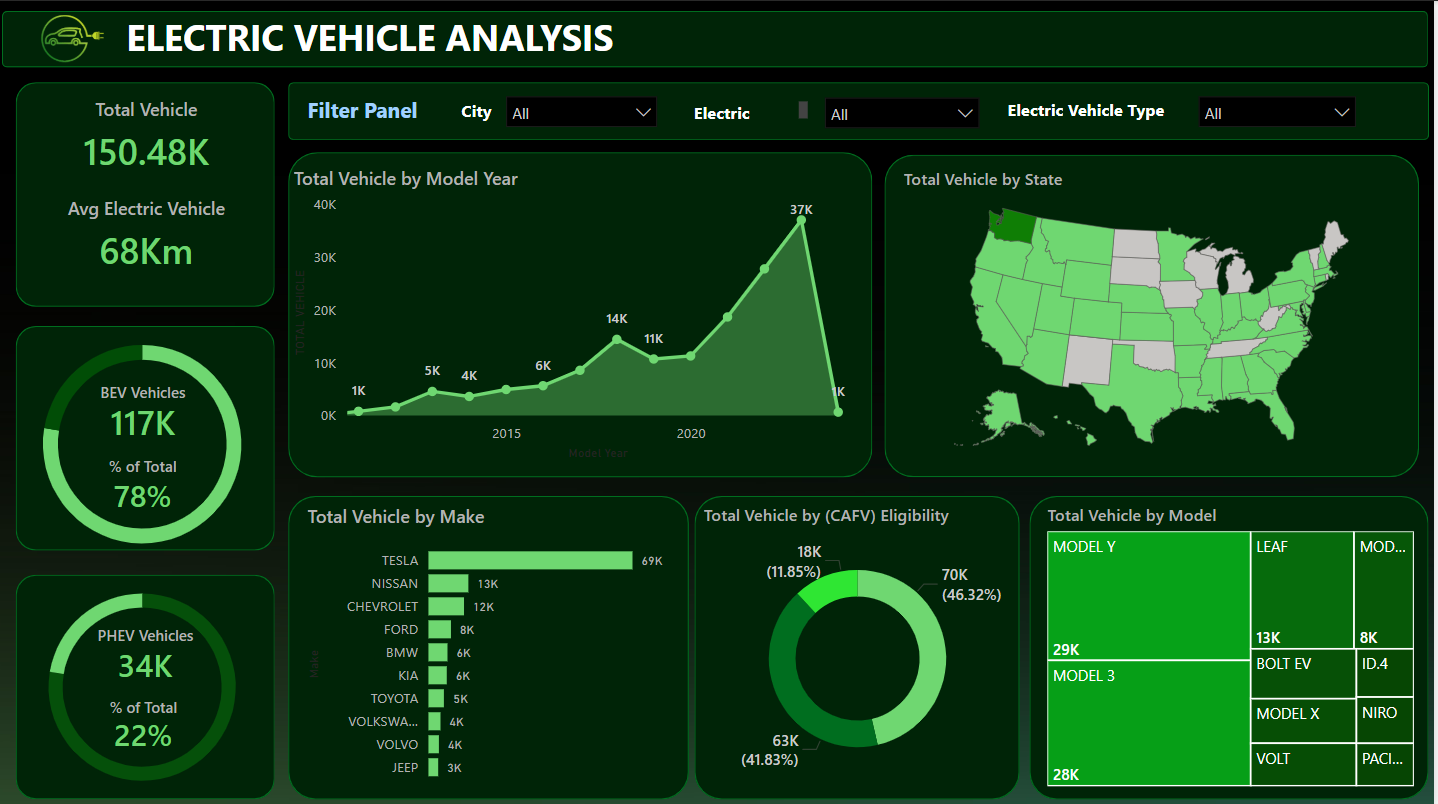

Layout of this report page (visuals, bound fields, positions):
{"tool":"powerbi","page":{"name":"Page 1","canvas":[1280,720],"ordinal":0},"visuals":[{"type":"shape","box":[4.9,8.6,1269.9,50.3],"z":0},{"type":"textbox","box":[109.8,5.5,456.9,53.5],"z":1000},{"type":"shape","box":[17.2,72.4,230.7,200],"z":2000},{"type":"shape","box":[17.2,289.6,230.7,200],"z":3000},{"type":"shape","box":[17.2,510.4,230.7,200],"z":4000},{"type":"card","title":"Total Vehicle","fields":{"Values":["Electric_Vehicle_Population_Data.TOTAL VEHICLE"]},"box":[42.9,84.7,179.1,77.3],"z":5000},{"type":"card","title":"Avg Electric Vehicle","fields":{"Values":["Electric_Vehicle_Population_Data.AVG ELECTRIC RANGE"]},"box":[42.9,173,179.1,77.3],"z":6000},{"type":"donutChart","fields":{"Y":["Electric_Vehicle_Population_Data.TOTAL VEHICLE"],"Category":["Electric_Vehicle_Population_Data.Electric Vehicle Type"]},"box":[0,279.8,259,231],"z":7000},{"type":"card","title":"BEV Vehicles","fields":{"Values":["Electric_Vehicle_Population_Data.BEV VEHICLE"]},"box":[73.6,339.9,112.9,55.2],"z":8000},{"type":"card","title":"% of Total","fields":{"Values":["Electric_Vehicle_Population_Data.% OF BEV VEHICLE"]},"box":[73.6,404.9,112.9,55.2],"z":9000},{"type":"donutChart","fields":{"Y":["Electric_Vehicle_Population_Data.TOTAL VEHICLE"],"Category":["Electric_Vehicle_Population_Data.Electric Vehicle Type"]},"box":[0,501.8,258.9,218.4],"z":10000},{"type":"card","title":"PHEV Vehicles","fields":{"Values":["Electric_Vehicle_Population_Data.PHEV VEHICLE"]},"box":[76.1,555.8,112.9,55.2],"z":11000},{"type":"card","title":"% of Total","fields":{"Values":["Electric_Vehicle_Population_Data.% OF PHEV VEHICLE"]},"box":[92,619.6,76.1,51.5],"z":12000},{"type":"shape","box":[258.9,72.4,1016,51.5],"z":13000},{"type":"shape","box":[258.9,135,520.2,289.6],"z":14000},{"type":"areaChart","title":"Total Vehicle by Model Year","fields":{"Category":["Electric_Vehicle_Population_Data.Model Year"],"Y":["Electric_Vehicle_Population_Data.TOTAL VEHICLE"]},"box":[258.9,146,508,267.5],"z":15000},{"type":"shape","box":[790.2,137.4,476.1,287.1],"z":16000},{"type":"shape","box":[259.3,440.5,356.8,270.3],"z":17000},{"type":"barChart","title":"Total Vehicle by Make","fields":{"Y":["Electric_Vehicle_Population_Data.TOTAL VEHICLE"],"Category":["Electric_Vehicle_Population_Data.Make"]},"box":[271.7,447.3,326.6,256.6],"z":18000},{"type":"shape","box":[621.6,440.5,289.5,270.3],"z":19000},{"type":"donutChart","title":"Total Vehicle by (CAFV) Eligibility","fields":{"Y":["Electric_Vehicle_Population_Data.TOTAL VEHICLE"],"Category":["Electric_Vehicle_Population_Data.Clean Alternative Fuel Vehicle (CAFV) Eligibility"]},"box":[624.4,447.3,284,256.6],"z":20000},{"type":"shape","box":[919.4,440.5,355.4,270.3],"z":21000},{"type":"treemap","title":"Total Vehicle by Model","fields":{"Values":["Electric_Vehicle_Population_Data.TOTAL VEHICLE"],"Group":["Electric_Vehicle_Population_Data.Model"]},"box":[930.4,447.3,336.2,256.6],"z":22000},{"type":"shapeMap","title":"Total Vehicle by State","fields":{"Category":["Electric_Vehicle_Population_Data.State"],"Value":["Electric_Vehicle_Population_Data.TOTAL VEHICLE"]},"box":[802.7,148.2,451.5,264.8],"z":23000},{"type":"textbox","box":[271.7,79.6,133.1,38.4],"z":24000},{"type":"slicer","fields":{"Values":["Electric_Vehicle_Population_Data.City"]},"box":[443.2,74.1,155.1,45.3],"z":25000},{"type":"textbox","box":[408.9,82.3,53.5,34.3],"z":26000},{"type":"slicer","fields":{"Values":["Electric_Vehicle_Population_Data.Electric Utility"]},"box":[727.3,75.5,157.8,45.3],"z":27000},{"type":"slicer","fields":{"Values":["Electric_Vehicle_Population_Data.Electric Vehicle Type"]},"box":[1059.4,74.1,160.5,45.3],"z":28000},{"type":"textbox","box":[616.1,85.1,111.1,34.3],"z":29000},{"type":"textbox","box":[894.7,81,164.7,34.3],"z":30000},{"type":"image","box":[22,8.2,87.8,59],"z":31000}]}

Visuals, with their boxes in screenshot pixels (x1, y1, x2, y2), scaled from the page's 1280x720 canvas onto the 1438x804 screenshot:
shape: pyautogui.locateOnScreen(6, 10, 1432, 66)
textbox: pyautogui.locateOnScreen(123, 6, 637, 66)
shape: pyautogui.locateOnScreen(19, 81, 279, 304)
shape: pyautogui.locateOnScreen(19, 323, 279, 547)
shape: pyautogui.locateOnScreen(19, 570, 279, 793)
"Total Vehicle" card: pyautogui.locateOnScreen(48, 95, 249, 181)
"Avg Electric Vehicle" card: pyautogui.locateOnScreen(48, 193, 249, 280)
donutChart - Electric_Vehicle_Population_Data.TOTAL VEHICLE x Electric_Vehicle_Population_Data.Electric Vehicle Type: pyautogui.locateOnScreen(0, 312, 291, 570)
"BEV Vehicles" card: pyautogui.locateOnScreen(83, 380, 210, 441)
"% of Total" card: pyautogui.locateOnScreen(83, 452, 210, 514)
donutChart - Electric_Vehicle_Population_Data.TOTAL VEHICLE x Electric_Vehicle_Population_Data.Electric Vehicle Type: pyautogui.locateOnScreen(0, 560, 291, 803)
"PHEV Vehicles" card: pyautogui.locateOnScreen(85, 621, 212, 682)
"% of Total" card: pyautogui.locateOnScreen(103, 692, 189, 749)
shape: pyautogui.locateOnScreen(291, 81, 1432, 138)
shape: pyautogui.locateOnScreen(291, 151, 875, 474)
"Total Vehicle by Model Year" areaChart: pyautogui.locateOnScreen(291, 163, 862, 462)
shape: pyautogui.locateOnScreen(888, 153, 1423, 474)
shape: pyautogui.locateOnScreen(291, 492, 692, 794)
"Total Vehicle by Make" barChart: pyautogui.locateOnScreen(305, 499, 672, 786)
shape: pyautogui.locateOnScreen(698, 492, 1024, 794)
"Total Vehicle by (CAFV) Eligibility" donutChart: pyautogui.locateOnScreen(701, 499, 1021, 786)
shape: pyautogui.locateOnScreen(1033, 492, 1432, 794)
"Total Vehicle by Model" treemap: pyautogui.locateOnScreen(1045, 499, 1423, 786)
"Total Vehicle by State" shapeMap: pyautogui.locateOnScreen(902, 165, 1409, 461)
textbox: pyautogui.locateOnScreen(305, 89, 455, 132)
slicer - Electric_Vehicle_Population_Data.City: pyautogui.locateOnScreen(498, 83, 672, 133)
textbox: pyautogui.locateOnScreen(459, 92, 519, 130)
slicer - Electric_Vehicle_Population_Data.Electric Utility: pyautogui.locateOnScreen(817, 84, 994, 135)
slicer - Electric_Vehicle_Population_Data.Electric Vehicle Type: pyautogui.locateOnScreen(1190, 83, 1370, 133)
textbox: pyautogui.locateOnScreen(692, 95, 817, 133)
textbox: pyautogui.locateOnScreen(1005, 90, 1190, 129)
image: pyautogui.locateOnScreen(25, 9, 123, 75)
